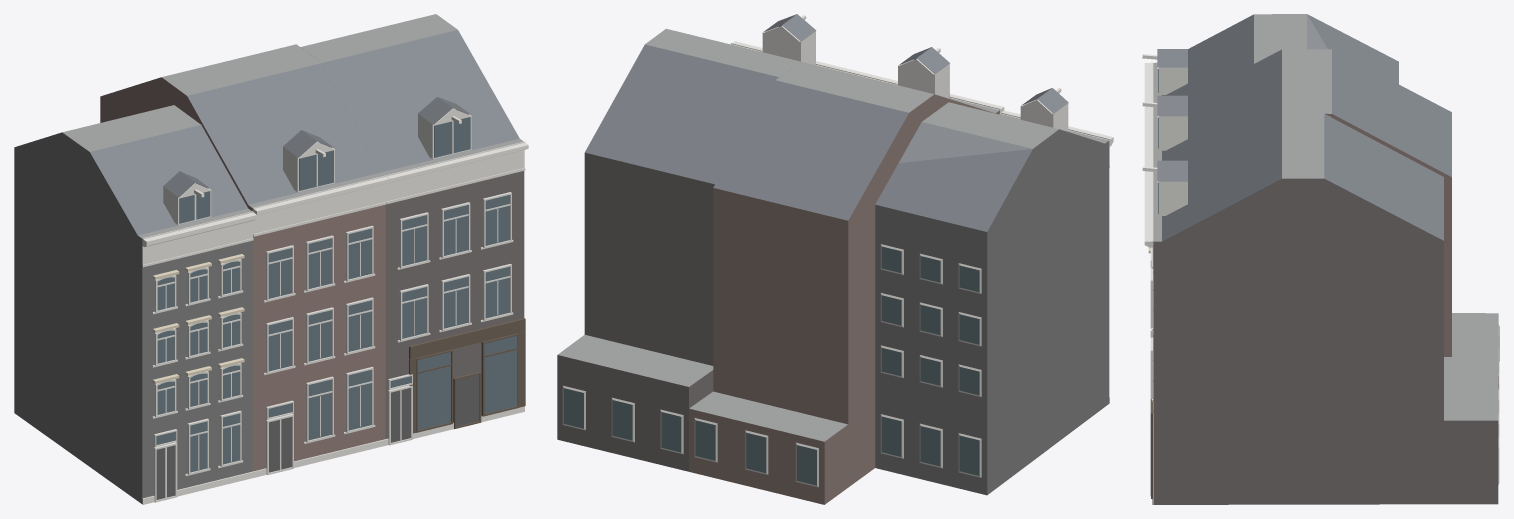
The model's file is chunk-face-dou-128-174-r1.glb.
The picture shows the model from 3 angles, left to right: view 1: azimuth 30°, elevation 25°; view 2: azimuth 150°, elevation 25°; view 3: azimuth 270°, elevation 25°; orthographic projection. The views are drawn at different scales.
Parts seen in each view (by area): view 1: face-dou-128-174-r1; view 2: face-dou-128-174-r1; view 3: face-dou-128-174-r1.
Part boxes in pixels (x1,y1,x2,y2): face-dou-128-174-r1: (14, 14, 528, 504); face-dou-128-174-r1: (557, 14, 1113, 504); face-dou-128-174-r1: (1142, 14, 1499, 504).
Size of the model in its own units: 20.08 by 16.64 by 16.51.
